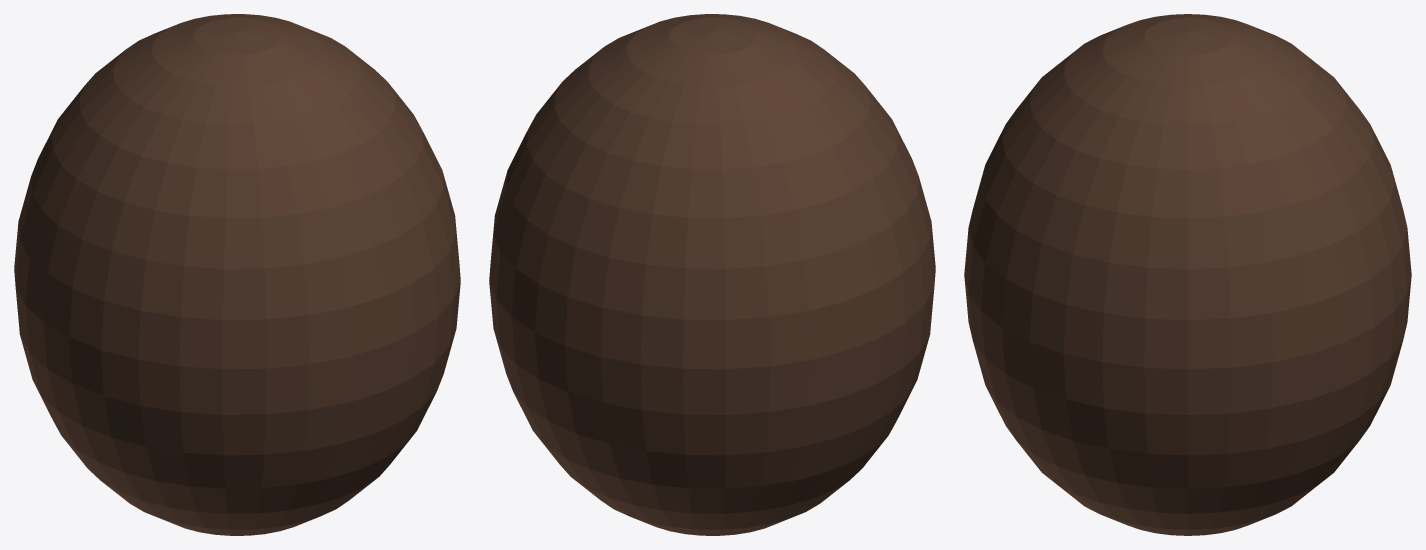
Rendered from hair_style3.glb.
3 renders of one model, left to right at view 1: azimuth 30°, elevation 25°; view 2: azimuth 150°, elevation 25°; view 3: azimuth 270°, elevation 25°, orthographic.
Parts seen in each view (by area): view 1: hair_style3; view 2: hair_style3; view 3: hair_style3.
Boxes of the visible parts, left/top/right/bottom form: hair_style3: left=14, top=14, right=460, bottom=535; hair_style3: left=489, top=14, right=935, bottom=535; hair_style3: left=964, top=14, right=1411, bottom=535.
Size of the model in its own units: 0.58 by 0.696 by 0.58.
